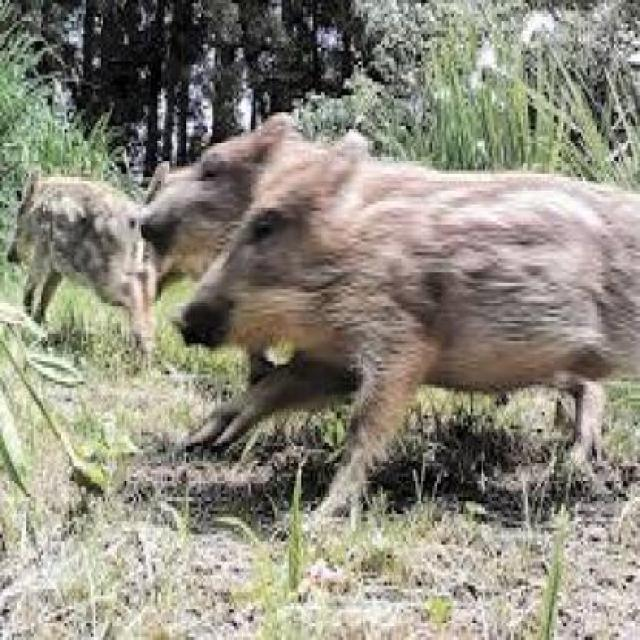wildboar: (171, 118, 640, 533), (136, 113, 510, 470), (3, 163, 202, 374)
